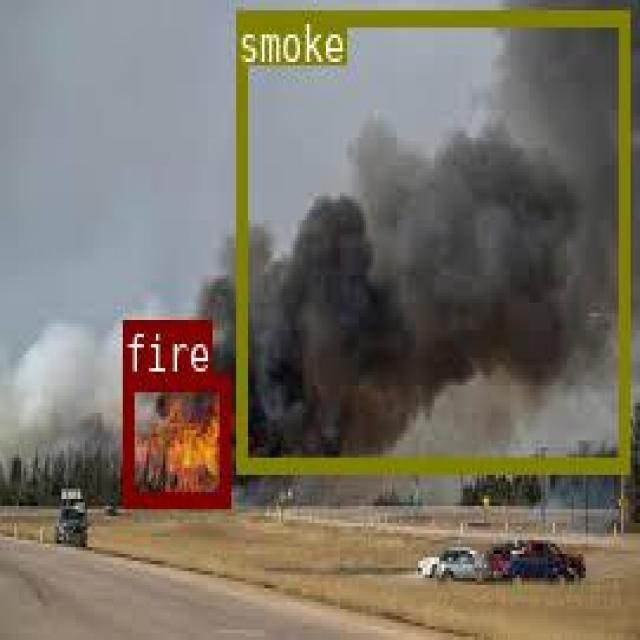fire: (121, 374, 229, 504)
smoke: (234, 9, 627, 469)
